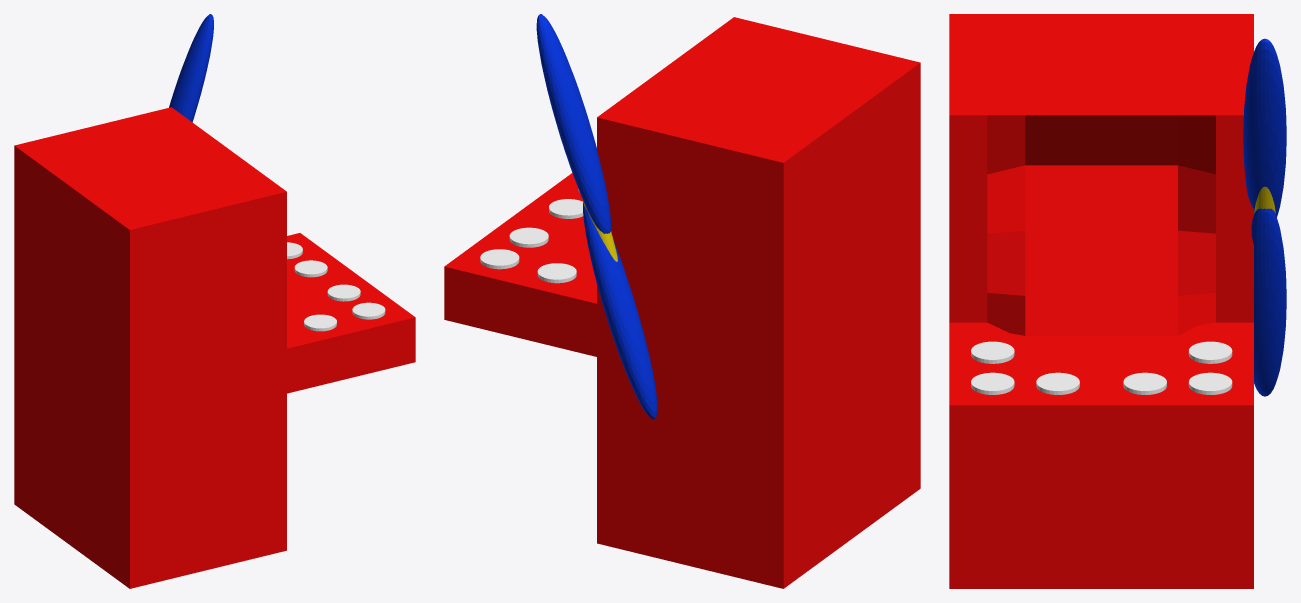
The model's file is SlotMachine.fbx.
3 renders of one model, left to right at view 1: azimuth 30°, elevation 25°; view 2: azimuth 150°, elevation 25°; view 3: azimuth 270°, elevation 25°, orthographic. The views are drawn at different scales.
Visible parts, largest first — view 1: Cube, Cube.001, Sphere.001; view 2: Cube, Cube.001, Sphere.001, Sphere, Cylinder.005, Cylinder.002, Cylinder.001; view 3: Cube, Cube.001, Sphere.001, Sphere, Cylinder.001, Cylinder.005, Cylinder.006, Cylinder.002, Cylinder.003, Cylinder.004.
Boxes of the visible parts, x1,y1,x2,y2 form: Cube: (14, 107, 286, 588); Cube.001: (287, 233, 415, 393); Sphere.001: (169, 14, 213, 122); Cube: (597, 17, 920, 588); Cube.001: (444, 173, 596, 356); Sphere.001: (536, 14, 611, 233); Sphere: (583, 202, 657, 419); Cylinder.005: (537, 263, 576, 283); Cylinder.002: (509, 227, 548, 247); Cylinder.001: (480, 249, 519, 269); Cube: (949, 14, 1253, 588); Cube.001: (949, 322, 1253, 464); Sphere.001: (1243, 38, 1286, 217); Sphere: (1251, 208, 1286, 396); Cylinder.001: (1188, 372, 1232, 394); Cylinder.005: (1188, 341, 1232, 363); Cylinder.006: (971, 341, 1014, 363); Cylinder.002: (1123, 372, 1166, 394); Cylinder.003: (1036, 372, 1079, 394); Cylinder.004: (971, 372, 1014, 394).
Size of the model in its own units: 200 by 293 by 155.
